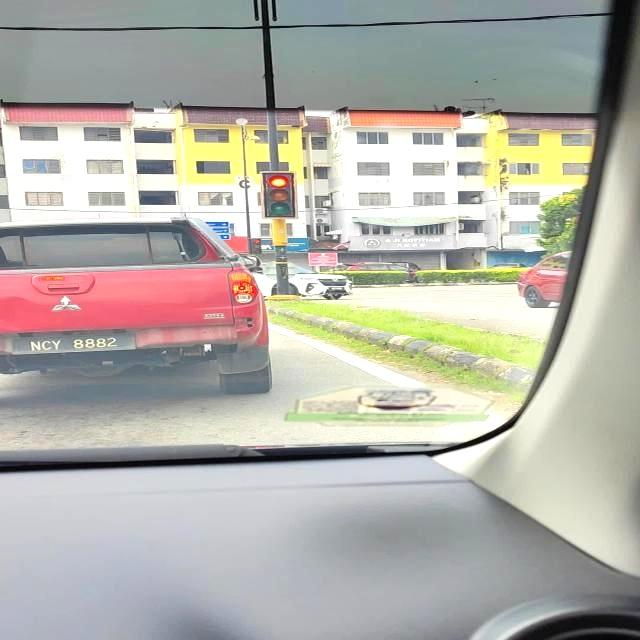Red: (262, 171, 296, 219), (250, 238, 262, 253)
